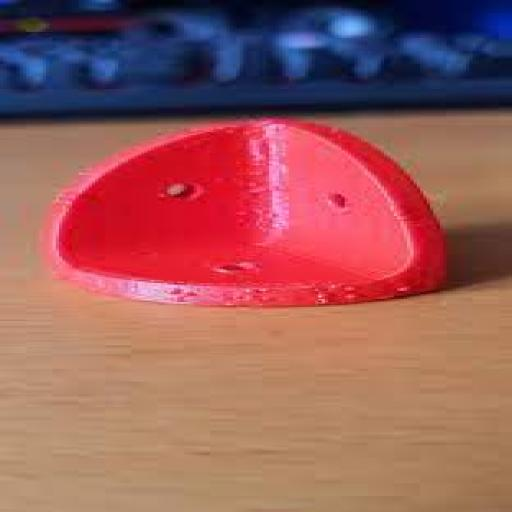blobs: (160, 280, 442, 308)
